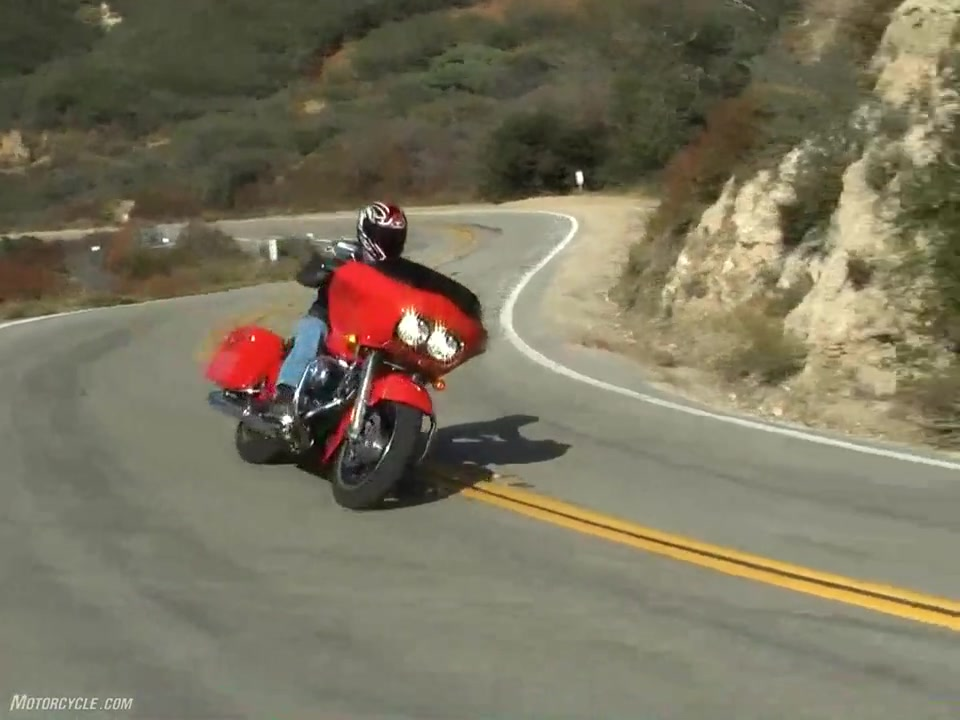motorbike: (201, 233, 491, 508)
